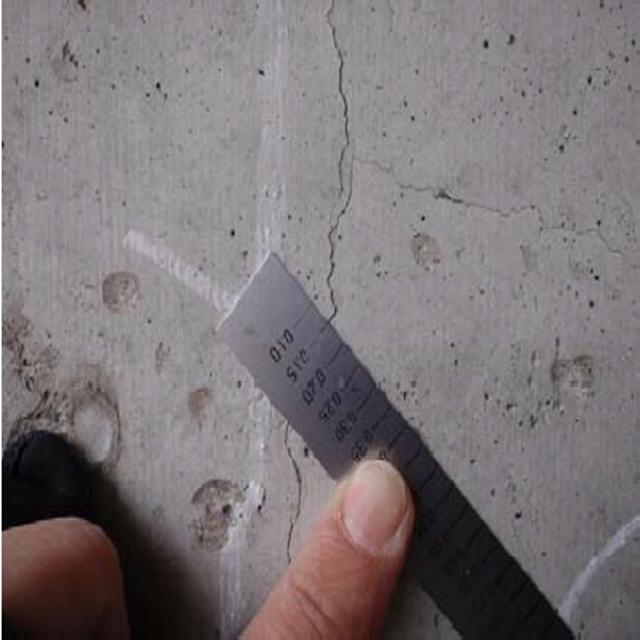crack: (274, 3, 360, 590)
